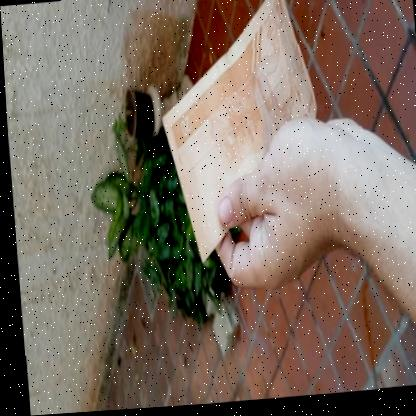vef_back: (150, 0, 325, 268)
